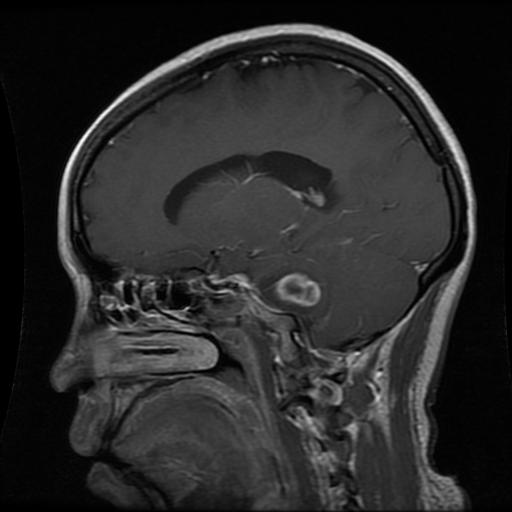Gliomia_tumour: (274, 274, 318, 307)
